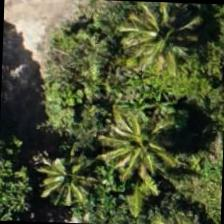Kelapa_Sawit: (88, 100, 182, 192), (8, 138, 102, 222)
